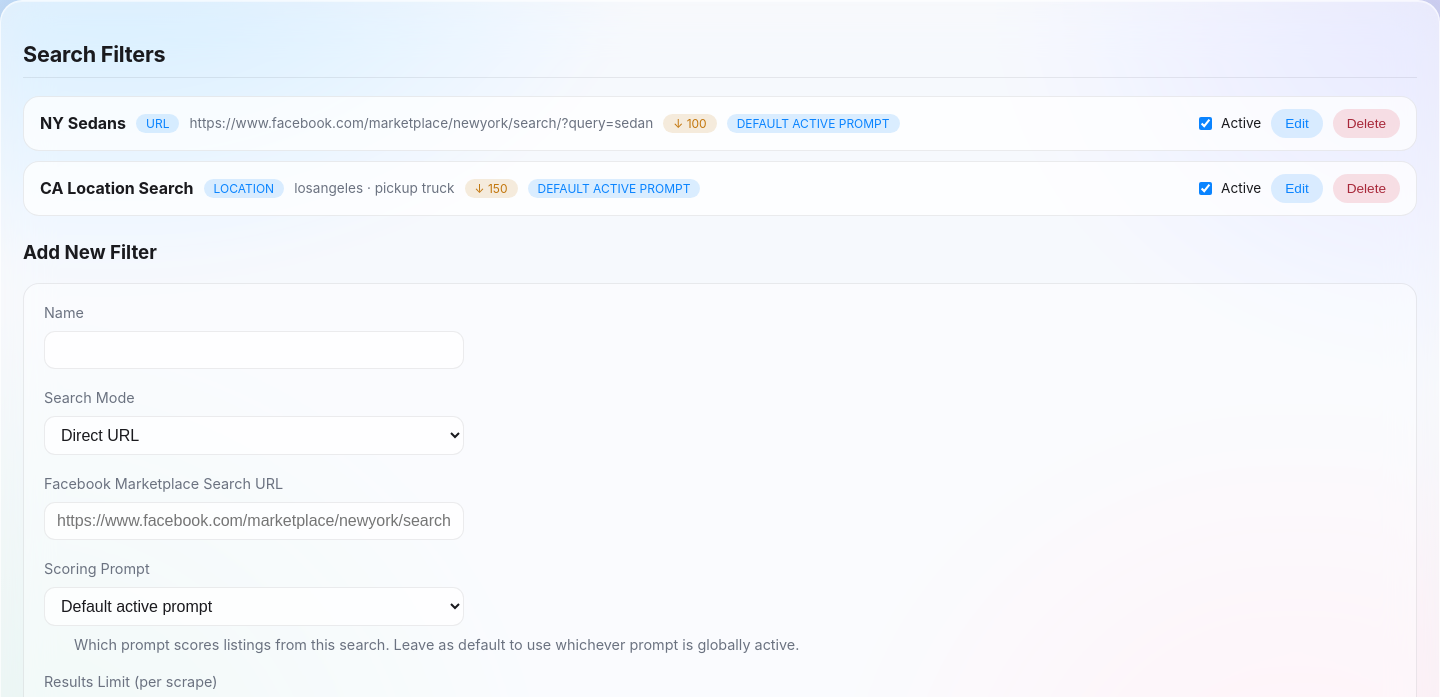
SearchFiltersTab › handles delete errors
Expected: the text "NY Sedans" is shown, x1=40 y1=113 x2=126 y2=133
What coordinates should you click on to do the following:
click the button "Delete" in the row of "100"
I would click on:
 (1366, 123)
Its box is x1=1333 y1=109 x2=1400 y2=138.
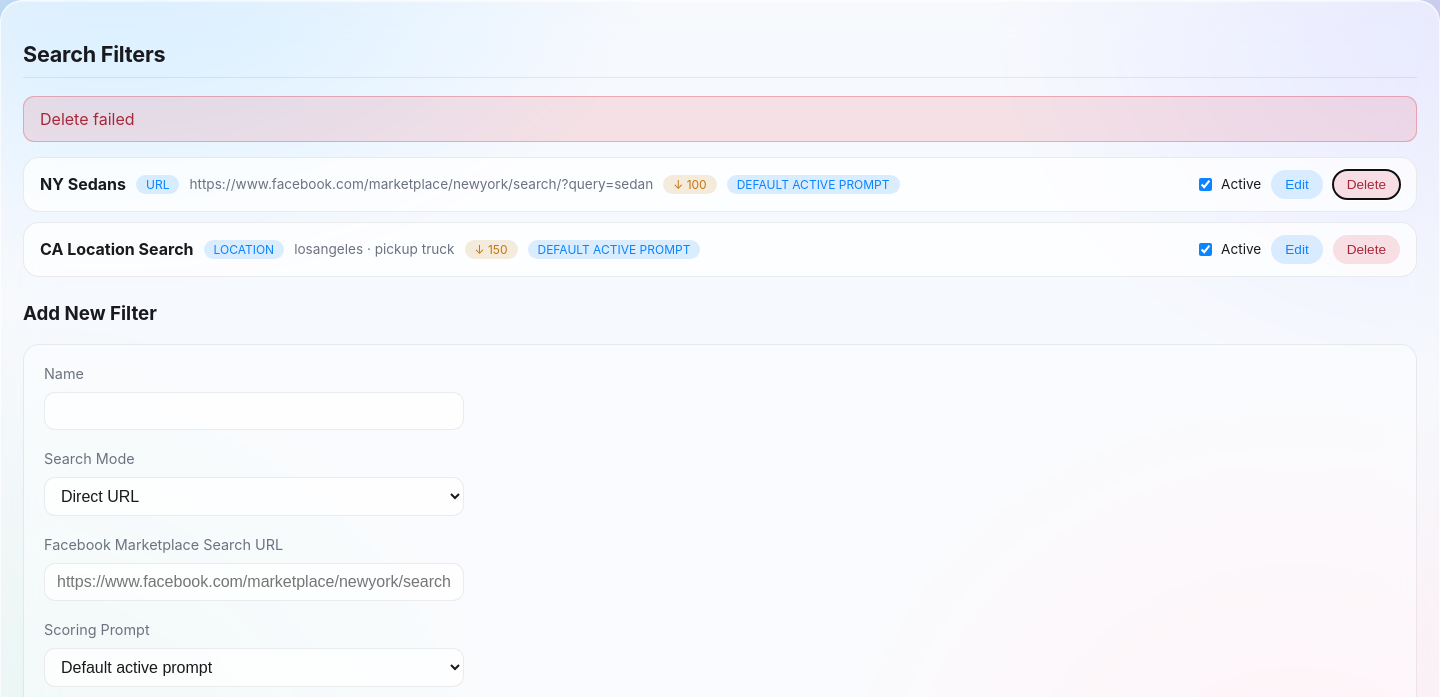
Expected: the text "Delete failed" is shown, x1=23 y1=96 x2=1417 y2=142
